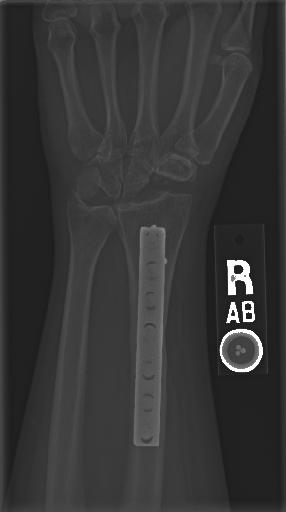fingers positive: (58, 179, 102, 224), (143, 168, 181, 194)
